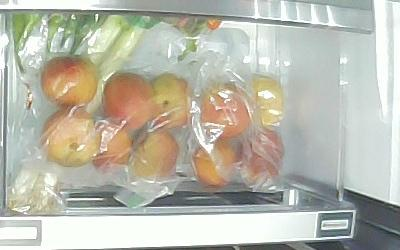prune_vinyl: (40, 107, 99, 168), (101, 71, 157, 130), (198, 83, 254, 138), (41, 54, 98, 106), (236, 128, 284, 185), (128, 130, 182, 179), (147, 72, 193, 129), (192, 136, 240, 186), (92, 121, 132, 172), (250, 77, 283, 125)
